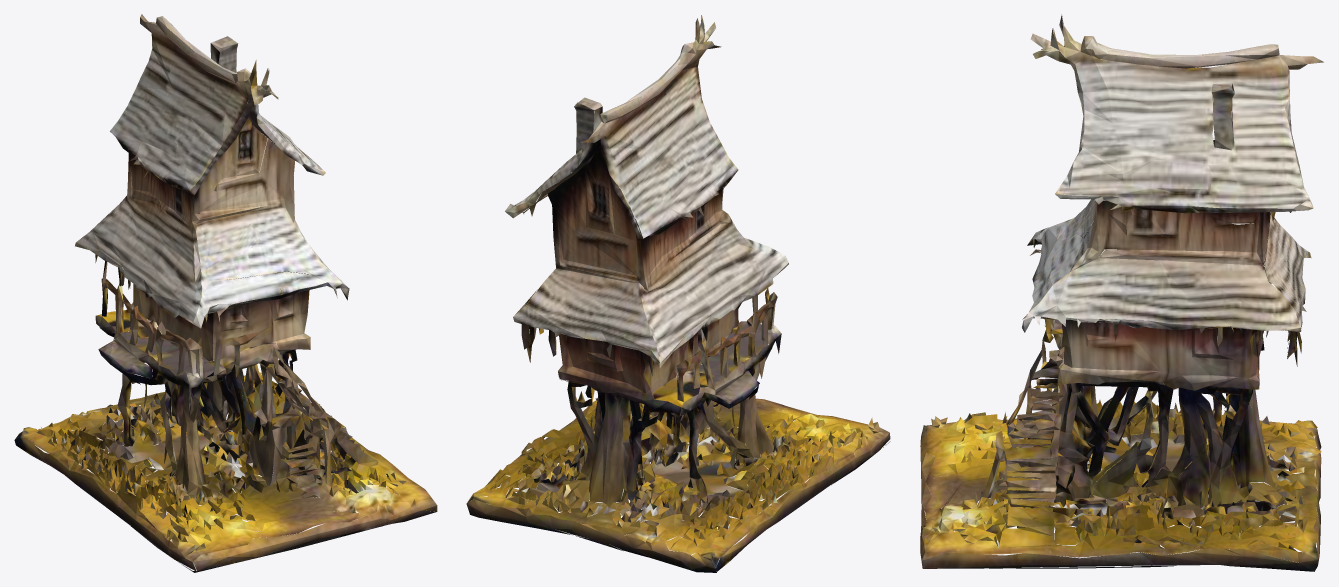
File: wt-bog-stilt-hut.glb
3 views of the same model, side by side, from view 1: azimuth 30°, elevation 25°; view 2: azimuth 150°, elevation 25°; view 3: azimuth 270°, elevation 25° (orthographic). The views are drawn at different scales.
Parts seen in each view (by area): view 1: tmpyk1ctx8y.ply; view 2: tmpyk1ctx8y.ply; view 3: tmpyk1ctx8y.ply.
Boxes of the visible parts, bbox=[...] form: tmpyk1ctx8y.ply: bbox=[14, 14, 437, 572]; tmpyk1ctx8y.ply: bbox=[466, 15, 890, 572]; tmpyk1ctx8y.ply: bbox=[920, 14, 1323, 571].
Size of the model in its own units: 3.21 by 5.47 by 4.03.
Materials: 1 (1 with a texture image).
